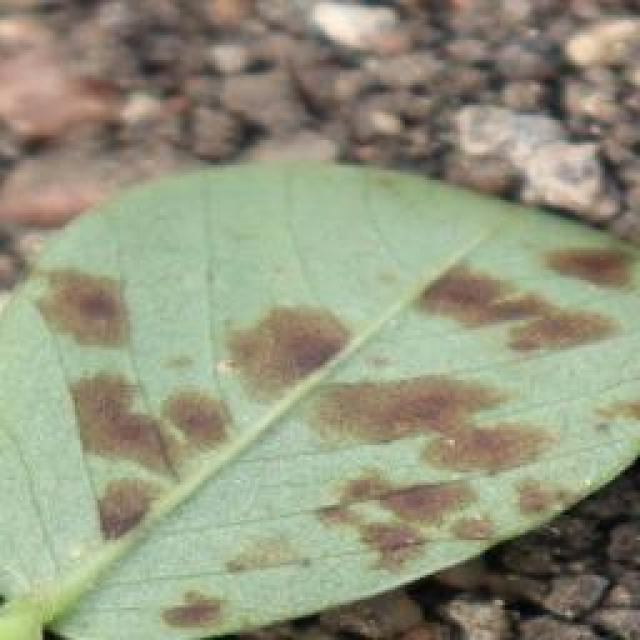Whitefly: (12, 215, 640, 583)
